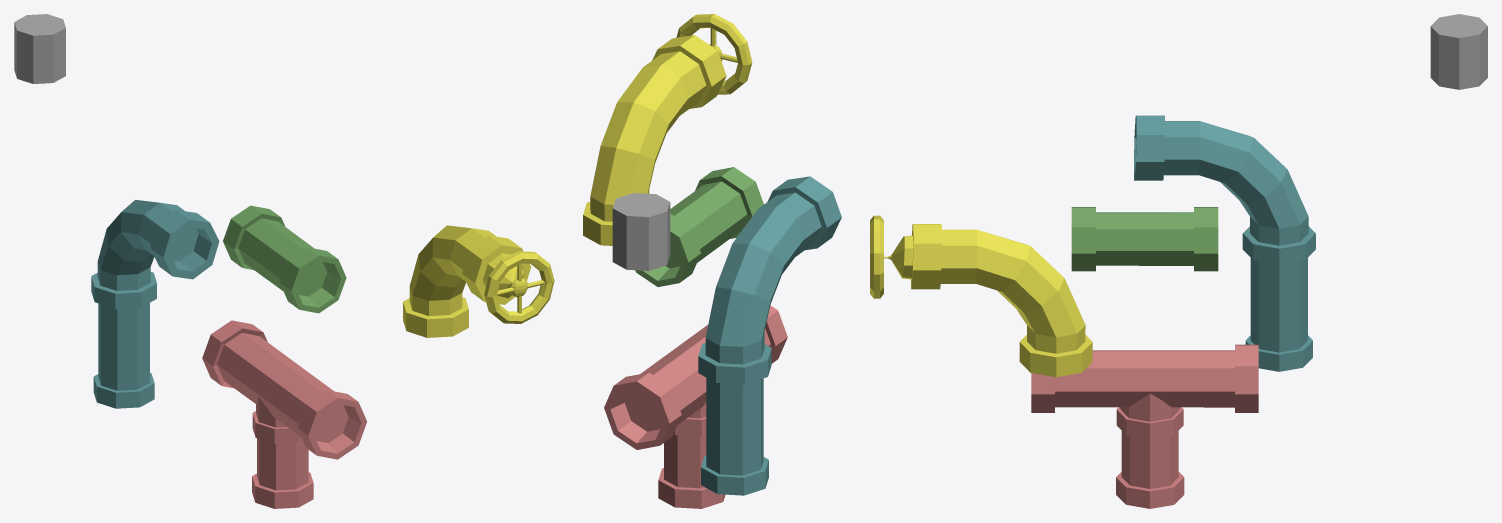
Rendered from tuberias lowpoly.fbx.
3 views of the same model, side by side, from view 1: azimuth 30°, elevation 25°; view 2: azimuth 150°, elevation 25°; view 3: azimuth 270°, elevation 25° (orthographic). The views are drawn at different scales.
Parts seen in each view (by area): view 1: pCylinder1, pCylinder4, pCylinder6, pCylinder5, pCylinder3, pCylinder2, polySurface5; view 2: pCylinder1, pCylinder6, pCylinder4, pCylinder5, pCylinder2, pCylinder3, polySurface5; view 3: pCylinder1, pCylinder6, pCylinder4, pCylinder5, pCylinder3, pCylinder2, polySurface5.
Boxes of the visible parts, x1,y1,x2,y2 form: pCylinder1: (91, 200, 219, 408); pCylinder4: (202, 320, 367, 459); pCylinder6: (403, 225, 530, 337); pCylinder5: (223, 205, 346, 313); pCylinder3: (252, 397, 313, 508); pCylinder2: (14, 14, 65, 83); polySurface5: (484, 251, 554, 323); pCylinder1: (698, 176, 841, 495); pCylinder6: (583, 35, 726, 245); pCylinder4: (604, 305, 787, 449); pCylinder5: (635, 167, 763, 286); pCylinder2: (612, 193, 670, 270); pCylinder3: (658, 402, 725, 508); polySurface5: (676, 14, 752, 94); pCylinder1: (1134, 115, 1315, 371); pCylinder6: (884, 224, 1092, 377); pCylinder4: (1031, 344, 1258, 412); pCylinder5: (1071, 207, 1218, 271); pCylinder3: (1116, 393, 1184, 508); pCylinder2: (1430, 14, 1487, 89); polySurface5: (870, 215, 883, 298).
Size of the model in its own units: 5.5 by 7.57 by 10.16.
